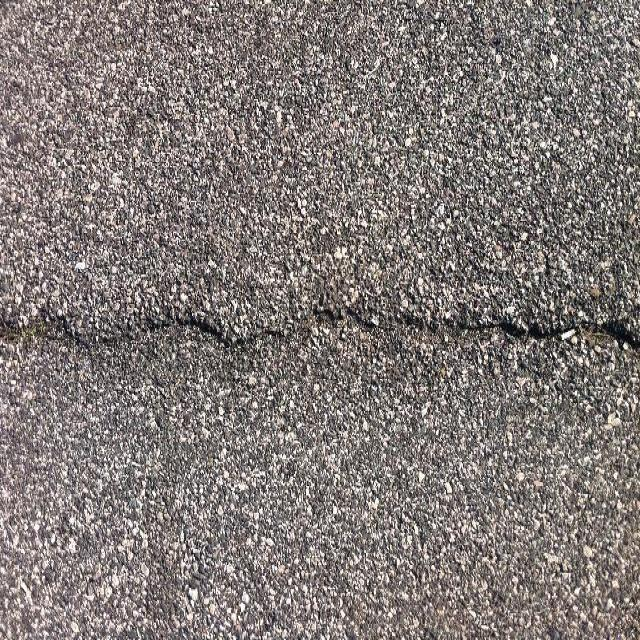GRIETA: (1, 306, 639, 360)
